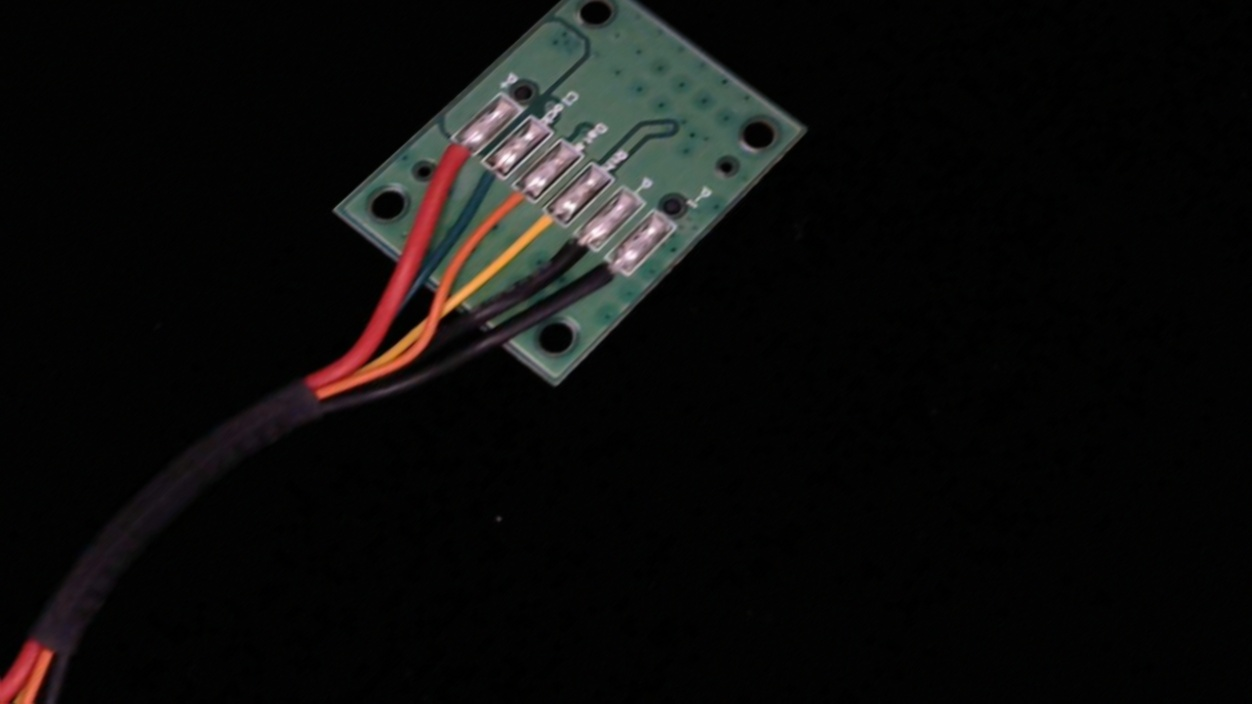Black: (531, 220, 612, 291)
Black1: (568, 245, 643, 311)
Green: (441, 148, 518, 213)
Orange: (472, 172, 548, 237)
Red: (403, 128, 487, 199)
Yellow: (499, 196, 581, 267)
